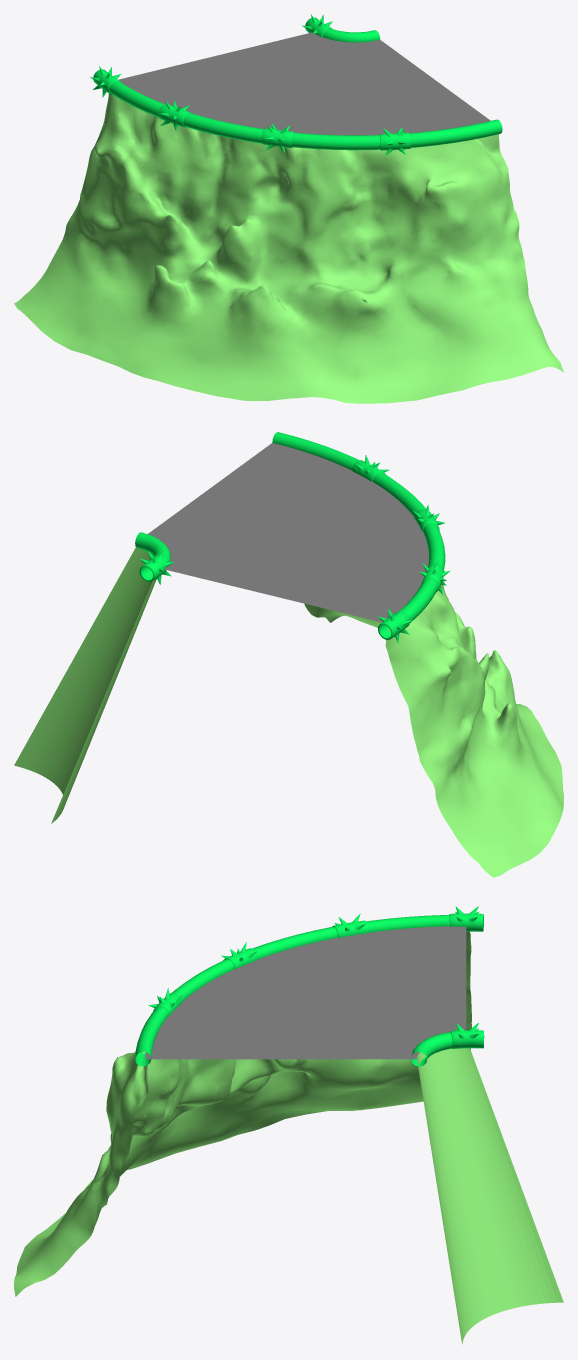
Rendered from Track_Ice_02.fbx.
3 views of the same model, one above another, from view 1: azimuth 30°, elevation 25°; view 2: azimuth 150°, elevation 25°; view 3: azimuth 270°, elevation 25° (orthographic). The views are drawn at different scales.
Parts seen in each view (by area): view 1: Track_Ice_02_walls, Track_Ice_02; view 2: Track_Ice_02_walls, Track_Ice_02; view 3: Track_Ice_02_walls, Track_Ice_02.
Part boxes in pixels (x1=…): Track_Ice_02_walls: x1=14, y1=14, x2=563, y2=403; Track_Ice_02: x1=118, y1=32, x2=490, y2=135; Track_Ice_02_walls: x1=14, y1=432, x2=563, y2=877; Track_Ice_02: x1=148, y1=443, x2=428, y2=622; Track_Ice_02_walls: x1=14, y1=906, x2=563, y2=1344; Track_Ice_02: x1=145, y1=926, x2=466, y2=1059.
Size of what is drawn, in the model's own units: 4573 by 4455 by 2297.
